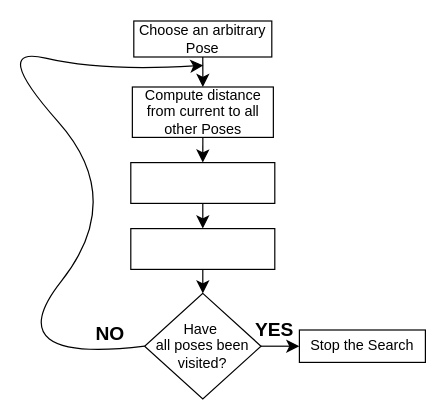
Image size: 448x420. Some labels were removed from this diagram. The shapes that lost their labels are listed below. From the top down, each one's box as (x1, y1, x2, y2) in pixels, then its label:
(130, 161, 275, 203): Choose closest Pose based on distance
(130, 227, 275, 269): Set the new pose as the current pose
